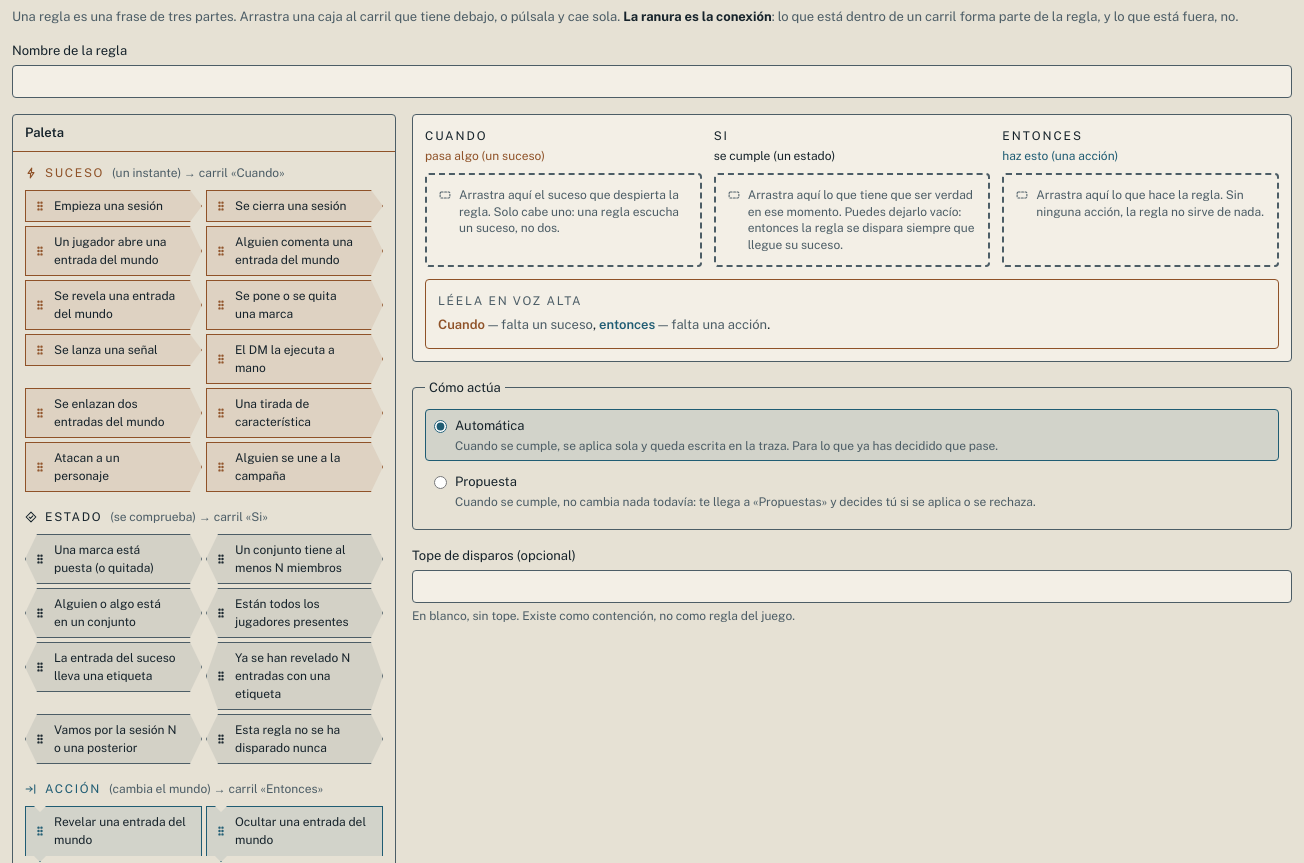
Test: la caja que falta se dice en palabras › el carril «Si» vacío NO se anuncia como hueco: una regla sin condiciones está completa
The image size is (1304, 863).
Click the button "Empieza una sesión". click: x=114, y=206
box: [25,190,202,222]
(page scrolled)
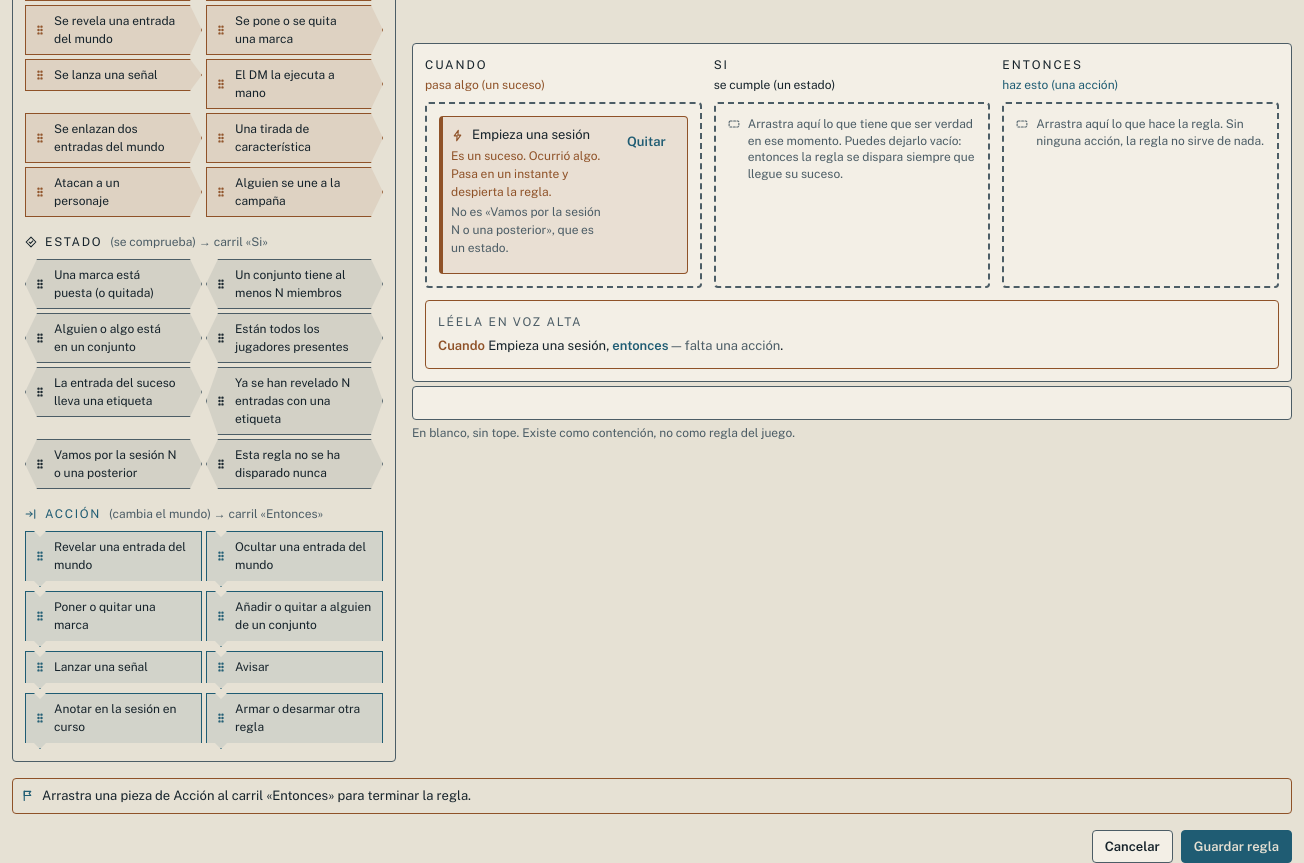
Click the button "Lanzar una señal". click: x=114, y=670
box: [25,651,202,689]
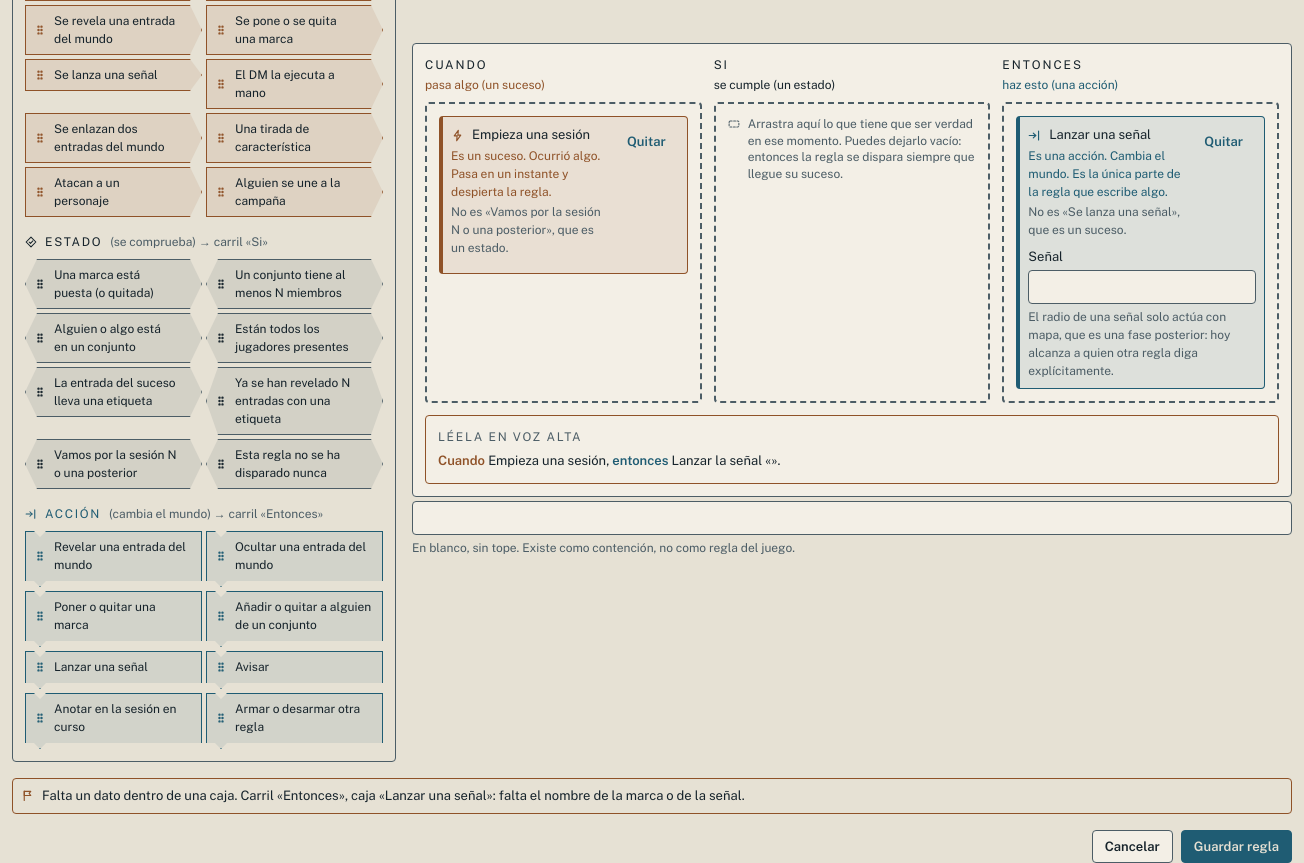
Result: the element showing "Cuando Empieza una sesión, entonces Lanzar la señal «»." is shown at [438,452,780,468]
